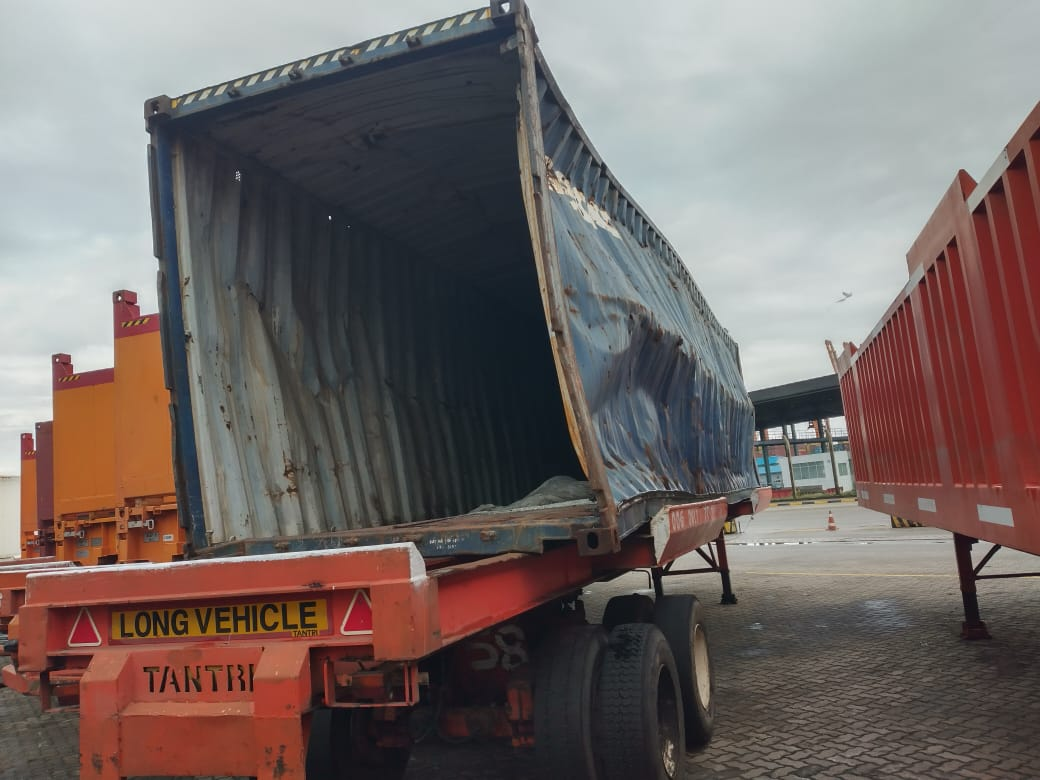bulged: (580, 226, 744, 453)
